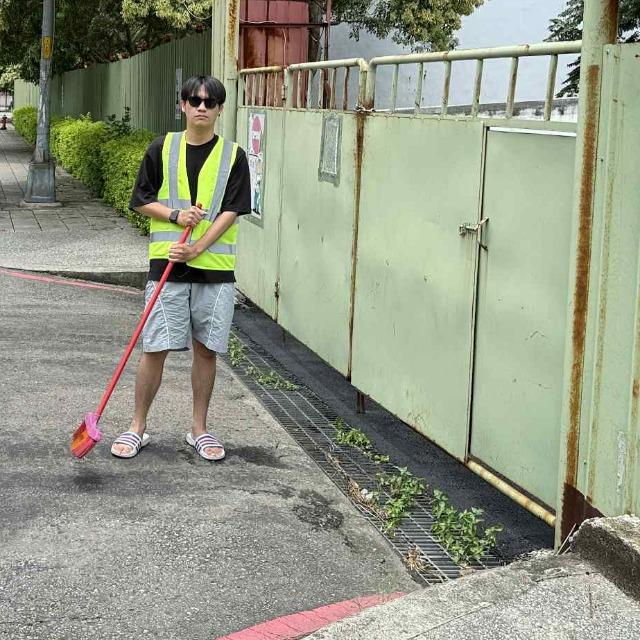NoHelmet: (178, 75, 227, 132)
Vest: (141, 128, 247, 284)
